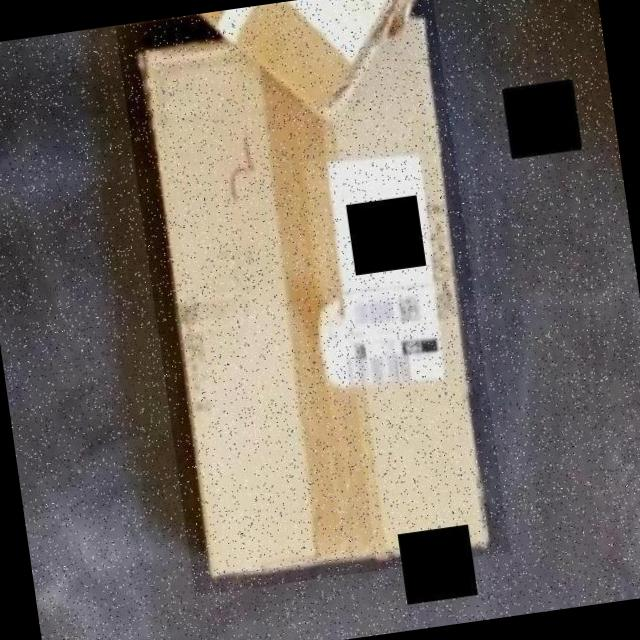box: (115, 0, 510, 595)
